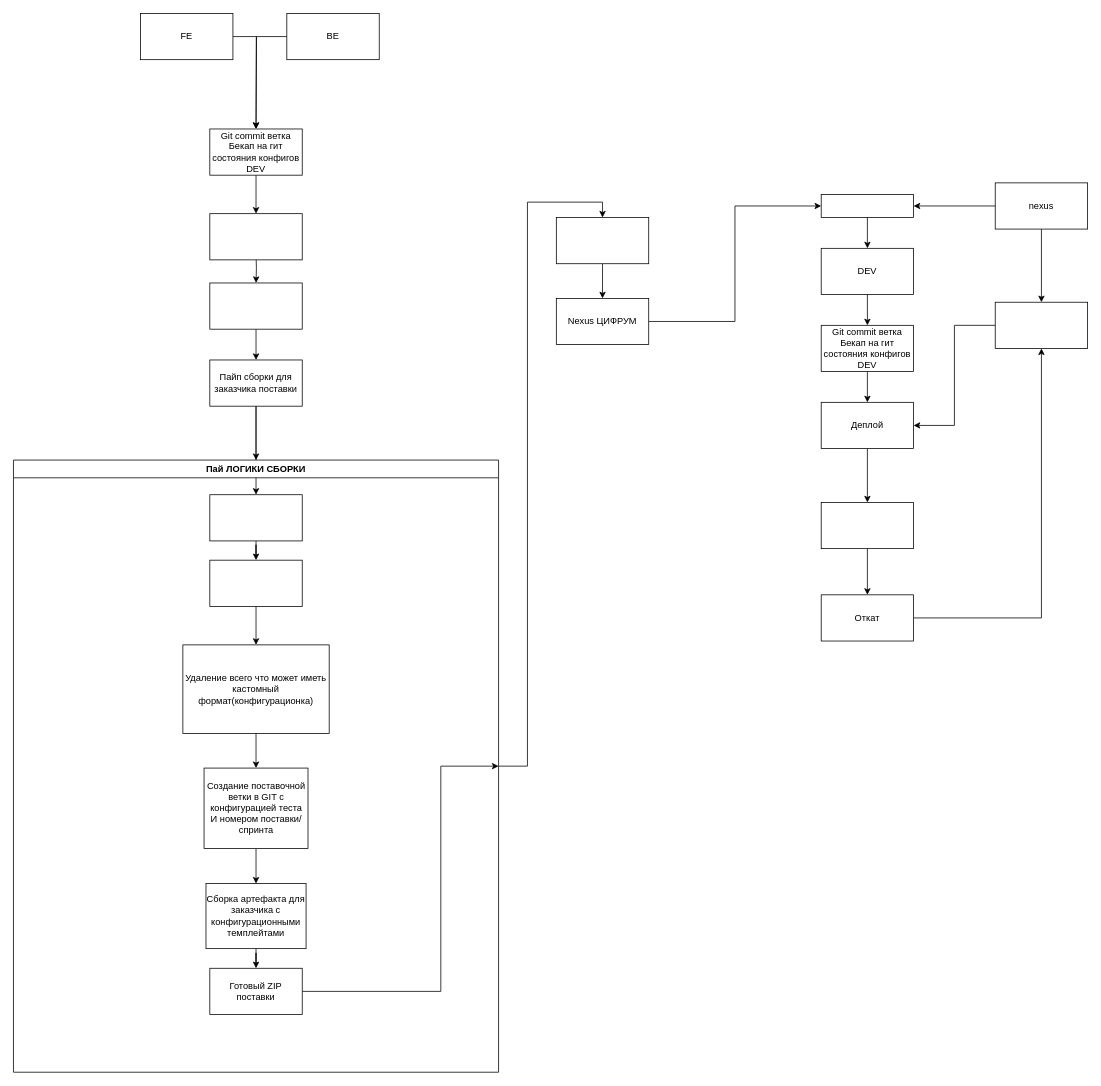
Some shapes in this 1101 by 1086 pixel diagram are drawn without their labels. The centre of each missing label's shape, as x and y in pixels:
"1 версия" goes at point 1041,324.
"Deploy" goes at point 255,236.
"Deploy OK" goes at point 255,305.
"Nexus universe 2 версия zip" goes at point 602,240.
"Start 2 версия zip" goes at point 867,206.
"Взятие архива WAR FE/BE от RND" goes at point 255,517.
"Падение" goes at point 867,525.
"Распаковка целевого ZIP" goes at point 255,582.
